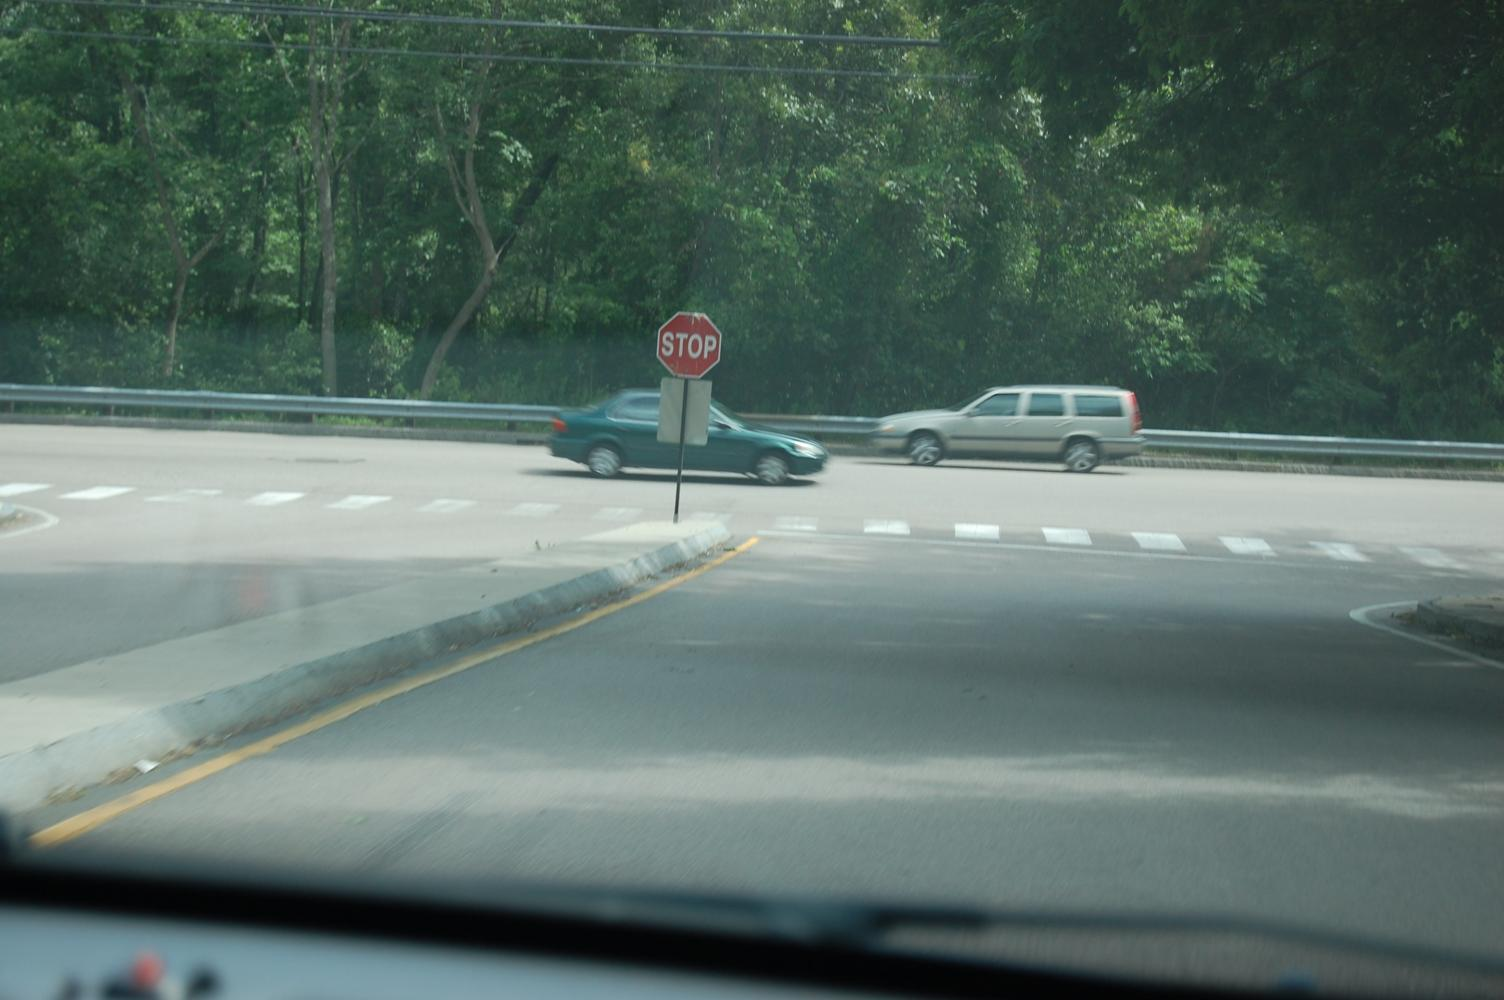car: (550, 381, 828, 488), (883, 377, 1155, 475)
